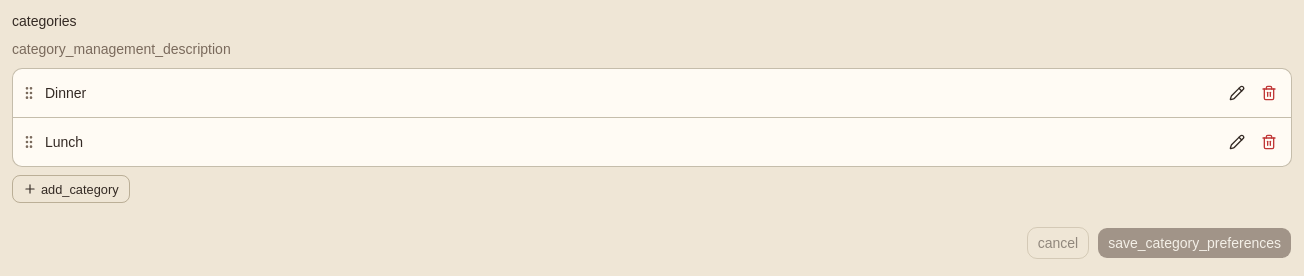
Test case: CategoriesTab editing › cancels an edit with Escape or the cancel button
Check: the text "Dinner" is shown, box [45,83,86,103]
Click the button named "edit_category_name" in the row of "Dinner" at (1237, 93), box [1223,79,1251,107]
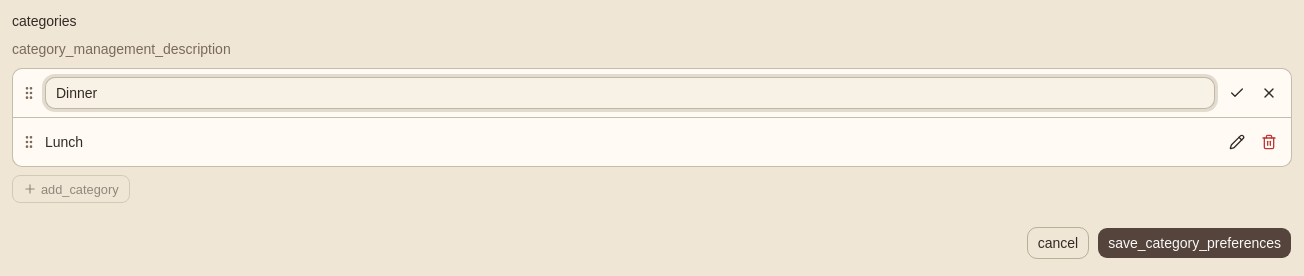
Replace the text in the field with placeholder "category_name" with "Changed" at (630, 93), box [45,77,1215,109]
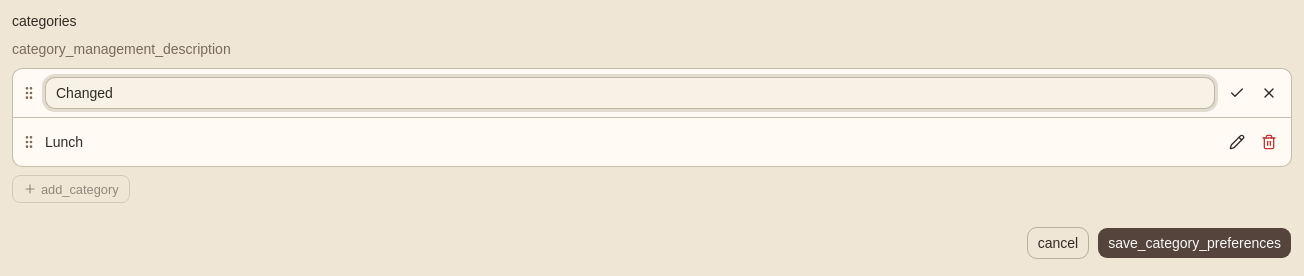
Press Escape in the field with placeholder "category_name", box [45,77,1215,109]
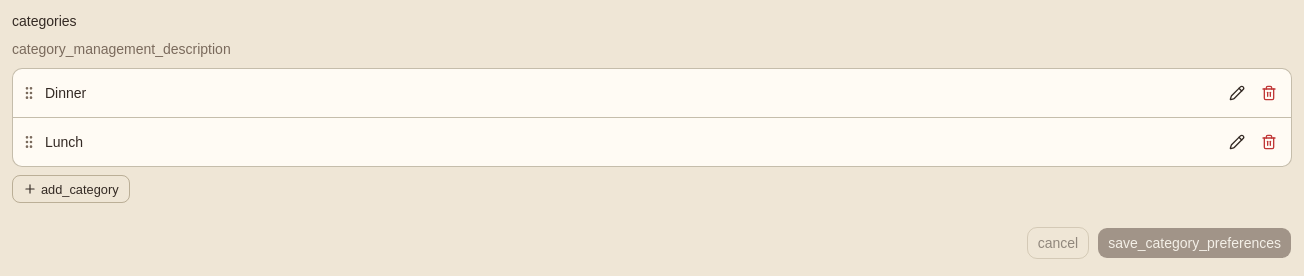
Check: the field with placeholder "category_name" is gone
Check: the text "Dinner" is shown, box [45,83,86,103]
Click the button named "edit_category_name" in the row of "Lunch" at (1237, 142), box [1223,128,1251,156]
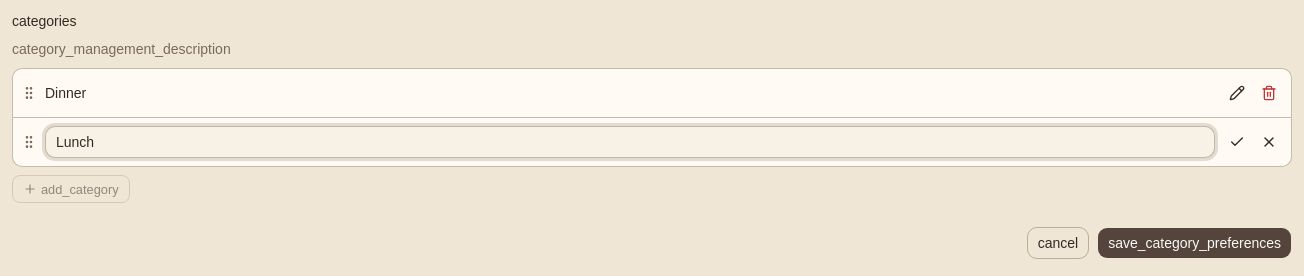
Press a in the field with placeholder "category_name", box [45,126,1215,158]
Click the button named "cancel" at (1269, 142), box [1255,128,1283,156]
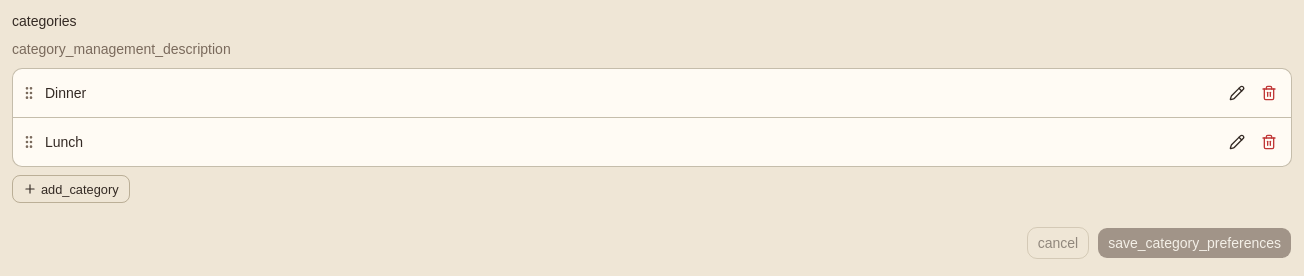
Check: the field with placeholder "category_name" is gone
